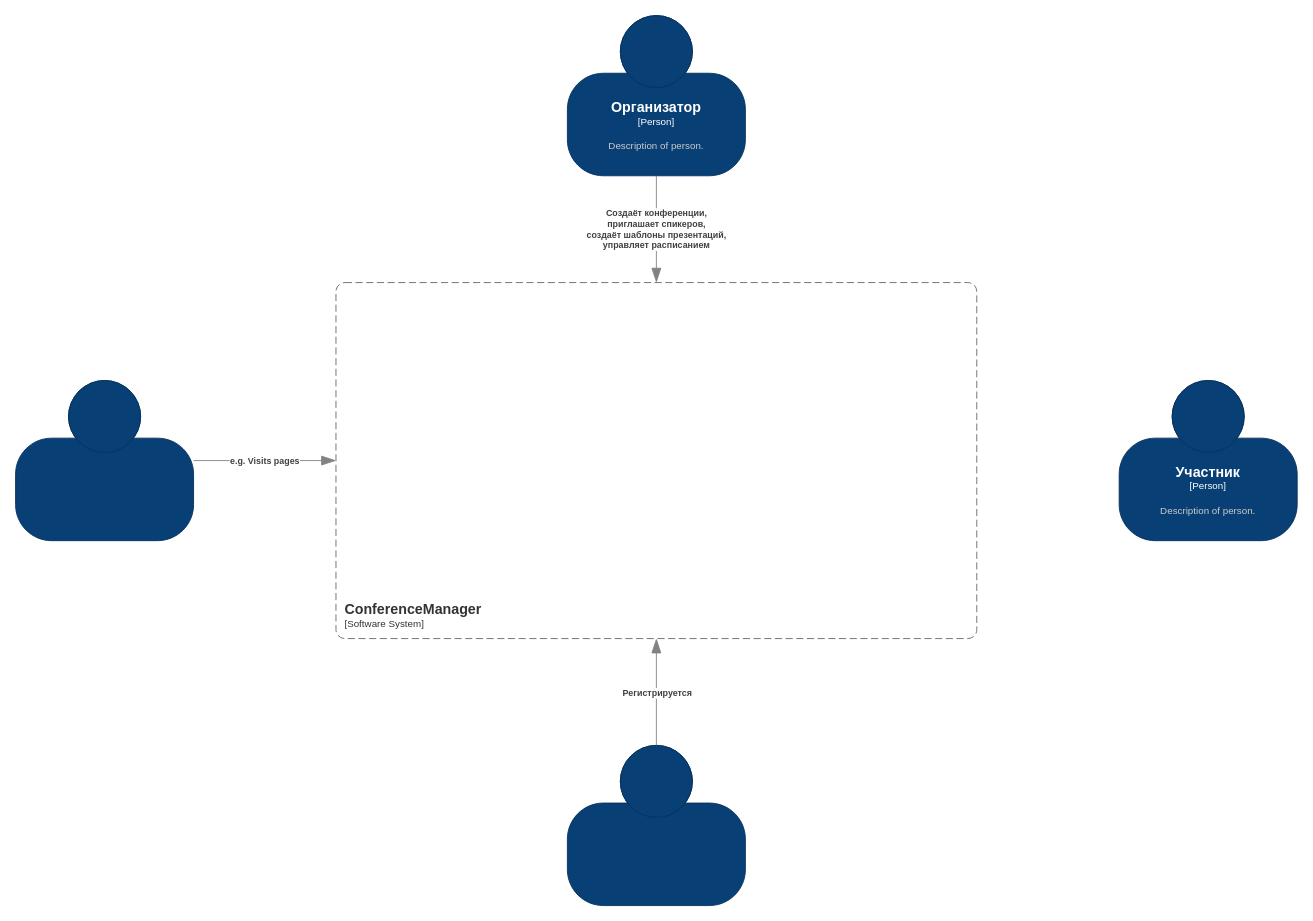
Some shapes in this 1313 by 921 pixel diagram are drawn without their labels. The box of each missing label's shape, as (x1, y1, x2, y2) in pixels:
Неизвестный пользователь [Person] Description of person.: (566, 744, 745, 906)
Спикер [Person] Description of person.: (15, 380, 194, 541)
